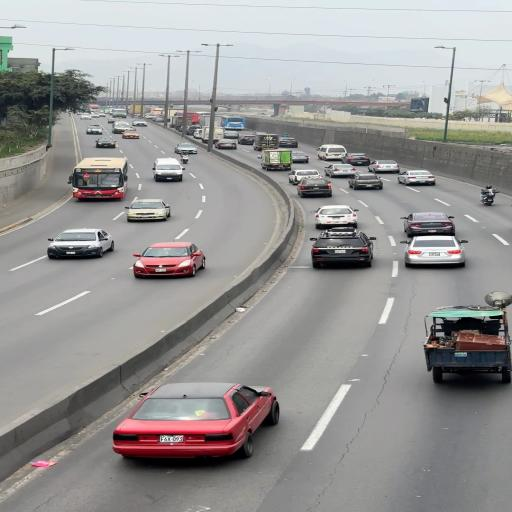auto: (110, 381, 276, 460), (130, 241, 205, 278), (310, 233, 374, 268), (402, 234, 466, 268), (47, 228, 114, 258), (401, 211, 455, 237), (311, 204, 359, 228), (124, 199, 170, 221), (296, 179, 332, 197), (347, 173, 383, 190), (397, 170, 435, 186), (288, 169, 322, 185), (323, 163, 357, 178), (152, 158, 182, 172), (368, 160, 398, 173), (342, 153, 371, 166), (175, 143, 198, 154), (95, 137, 115, 148), (291, 152, 309, 163), (215, 141, 237, 150), (112, 124, 130, 134), (278, 139, 298, 148), (121, 130, 140, 139), (238, 135, 255, 145), (223, 130, 240, 139), (86, 125, 102, 134), (184, 125, 199, 134), (252, 132, 268, 139), (200, 135, 212, 143), (278, 136, 296, 141), (132, 120, 146, 126)
bus: (422, 309, 510, 382), (252, 133, 280, 150), (128, 104, 145, 115)
camion: (480, 185, 498, 205), (179, 152, 188, 164)
moto: (68, 156, 130, 199), (260, 148, 294, 171), (316, 144, 347, 161), (196, 126, 226, 143), (173, 111, 202, 127), (198, 113, 224, 130), (221, 116, 245, 130), (111, 108, 127, 118), (150, 108, 164, 117), (87, 104, 100, 110), (103, 108, 113, 114)
